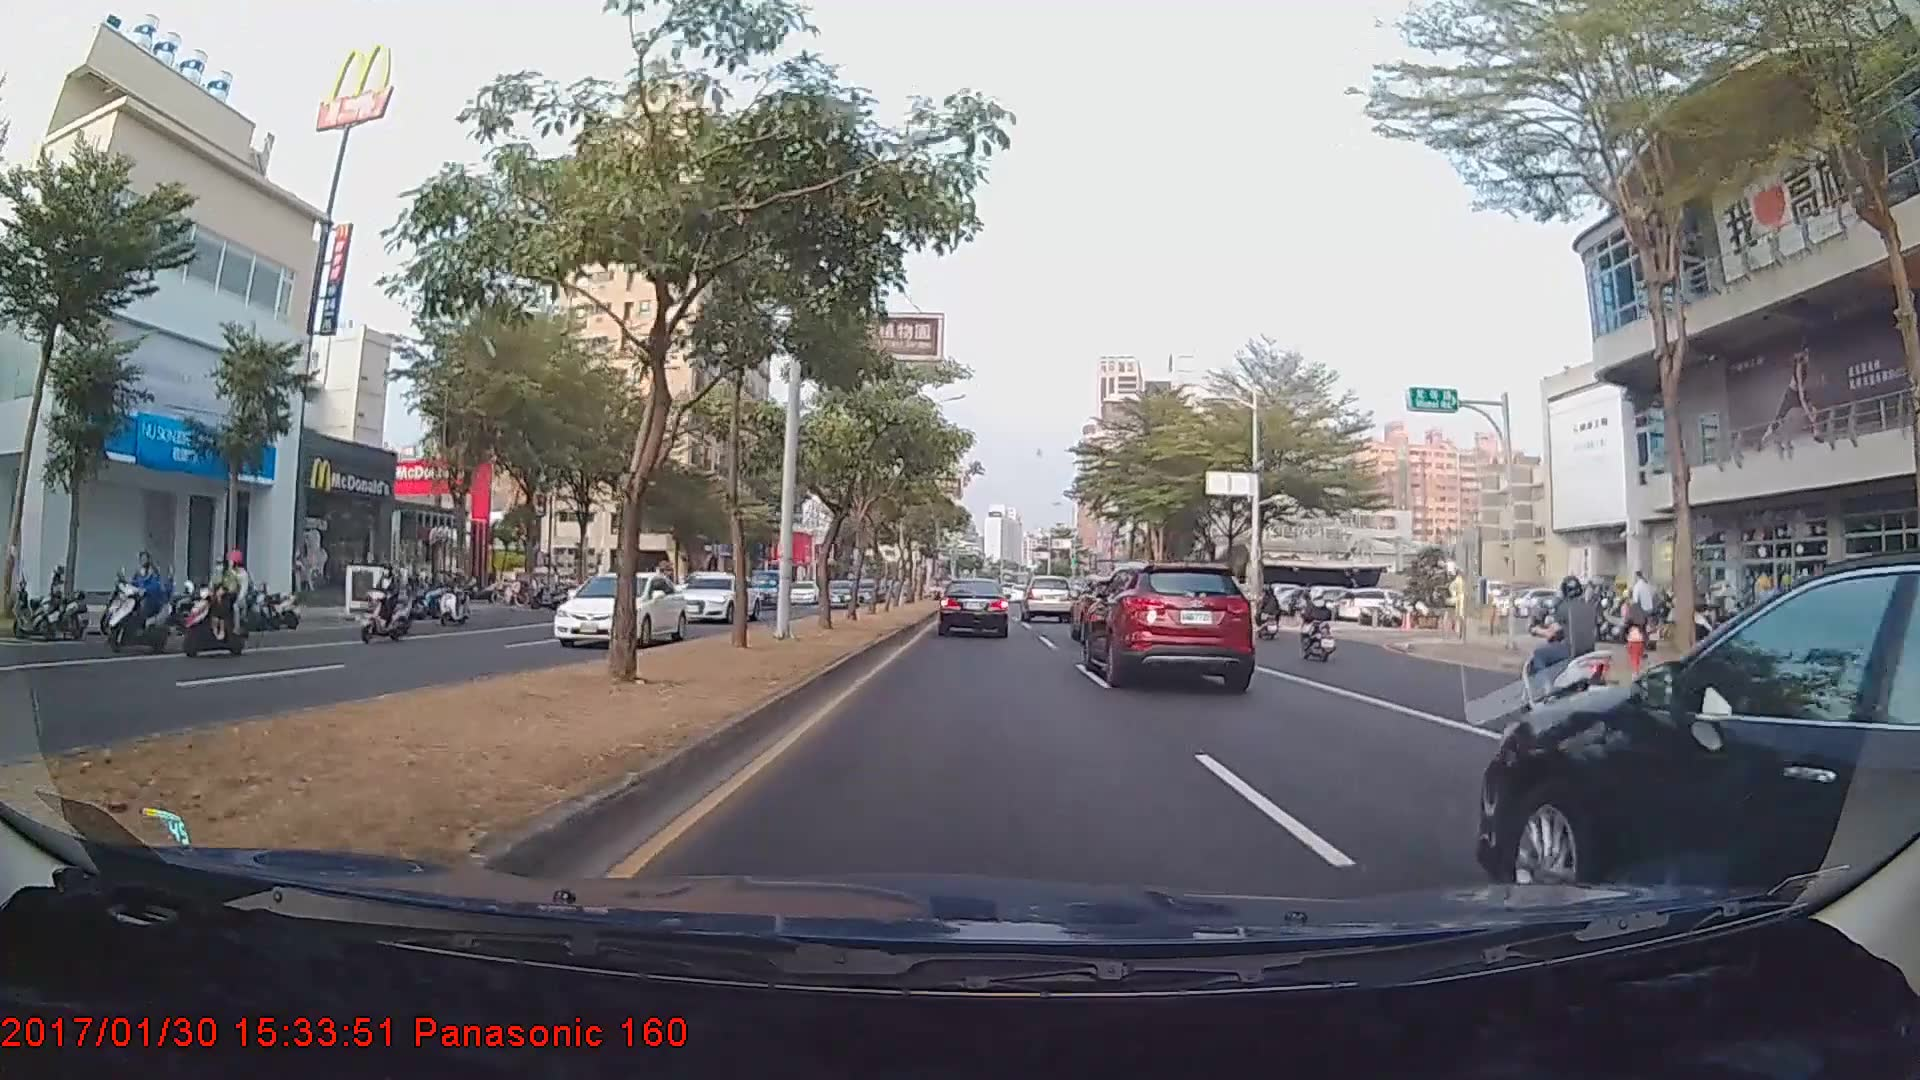pedestrian: (1627, 570, 1657, 657)
rider: (1513, 572, 1632, 736), (1715, 570, 1838, 724), (96, 545, 182, 654), (180, 552, 254, 659), (350, 560, 413, 649), (1298, 586, 1343, 668), (435, 566, 481, 634)
vehicle: (1474, 549, 1920, 927), (1084, 559, 1254, 687), (550, 570, 687, 648), (670, 572, 759, 621), (938, 578, 1009, 638), (1020, 574, 1076, 623)
